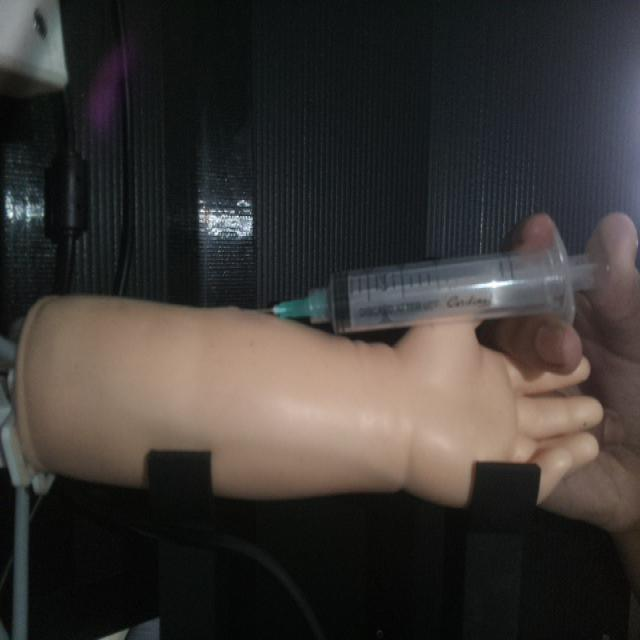Outside: (236, 224, 607, 338)
